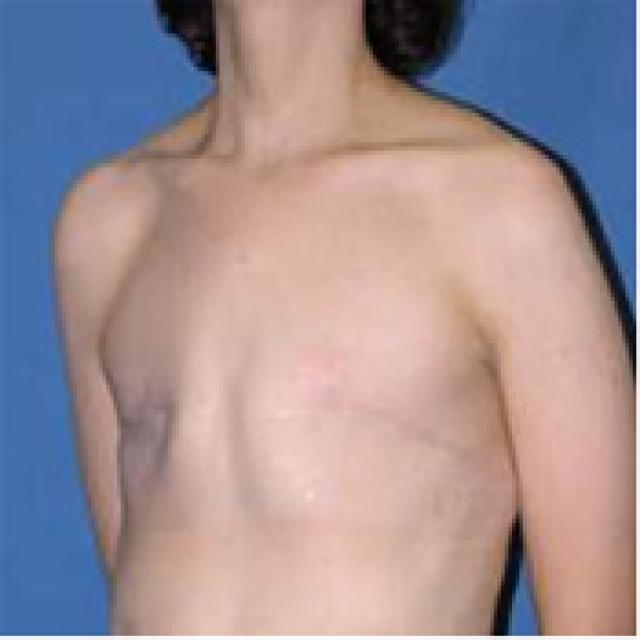Seno herido: (244, 309, 446, 554), (100, 306, 234, 550)
